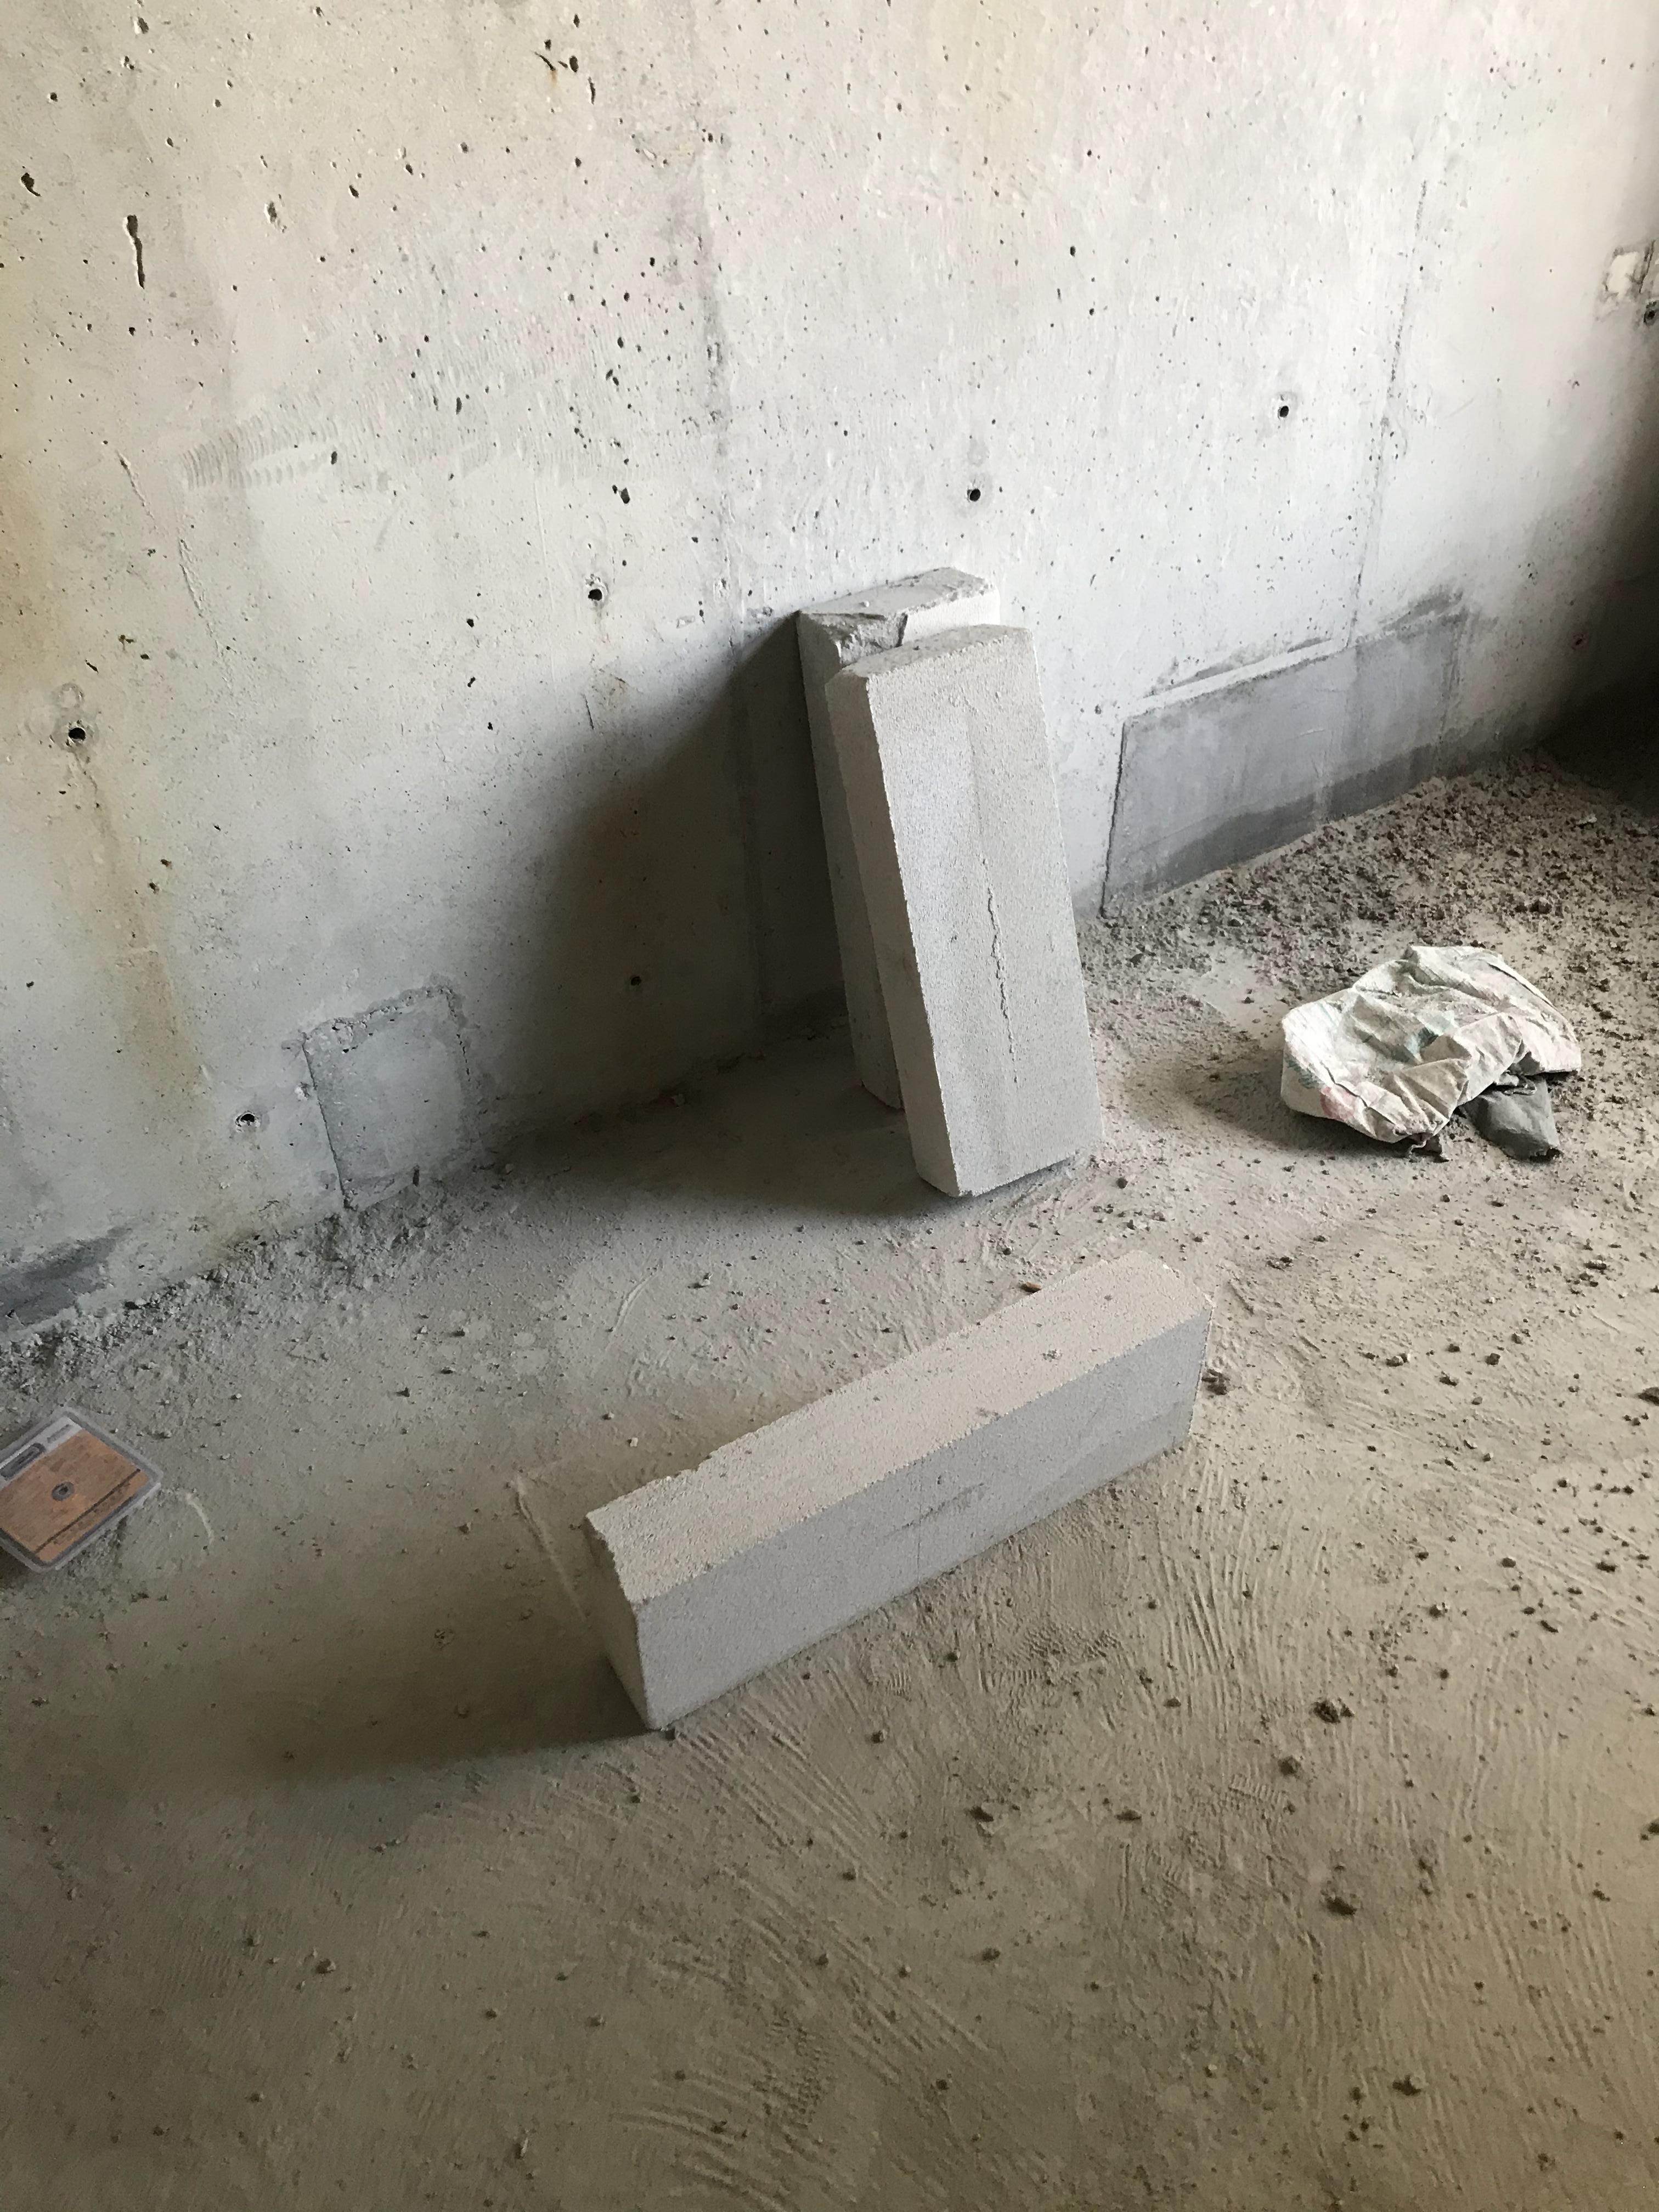brick: (549, 442, 1659, 1082)
